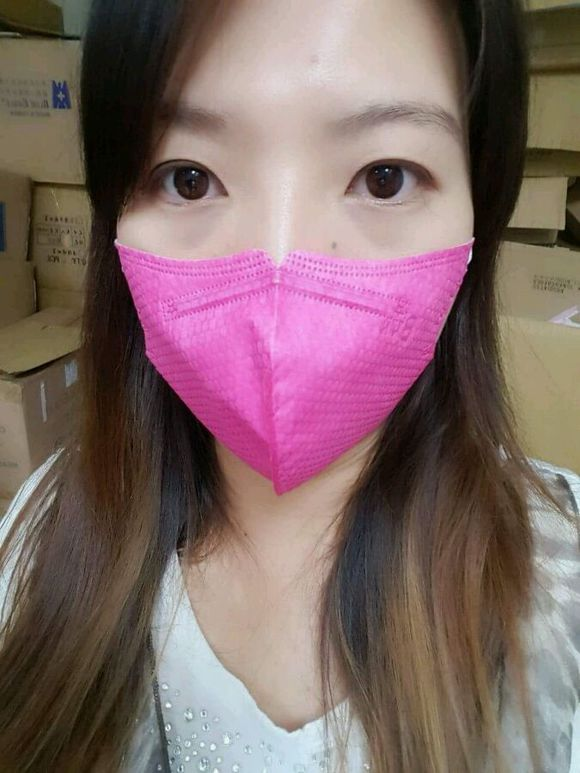face_mask: (112, 1, 472, 478)
